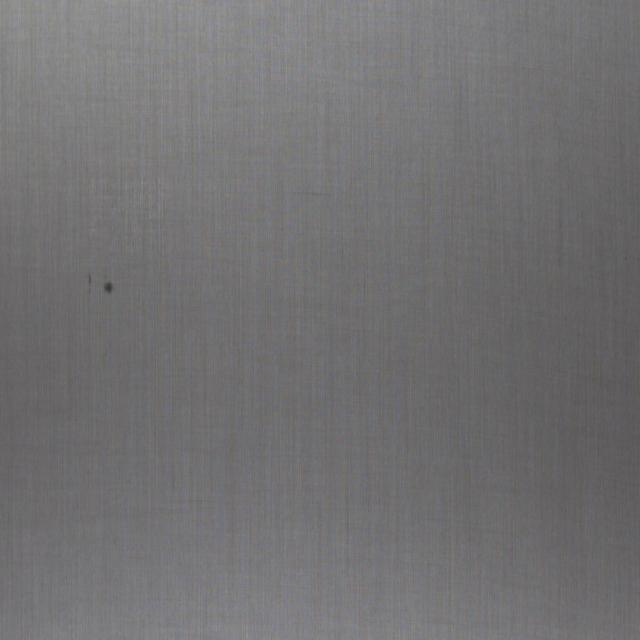dirty: (104, 282, 113, 294), (88, 275, 92, 294)
